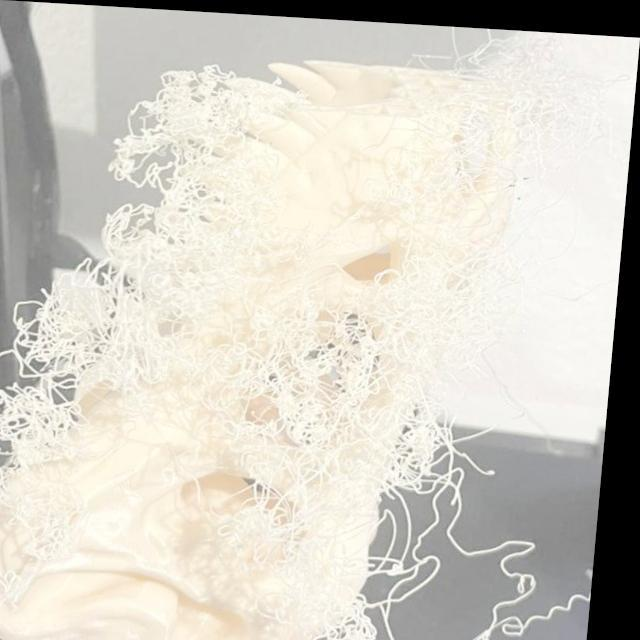spaghetti: (239, 326, 400, 465), (1, 328, 122, 473), (251, 459, 367, 602), (45, 283, 186, 386), (137, 74, 257, 193), (477, 40, 614, 141), (392, 252, 512, 354), (386, 131, 486, 223), (100, 204, 221, 280), (388, 393, 469, 494), (6, 483, 100, 556), (301, 580, 393, 640)
